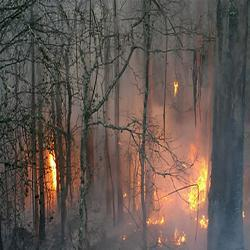fire: (188, 158, 214, 231), (43, 149, 63, 192)
